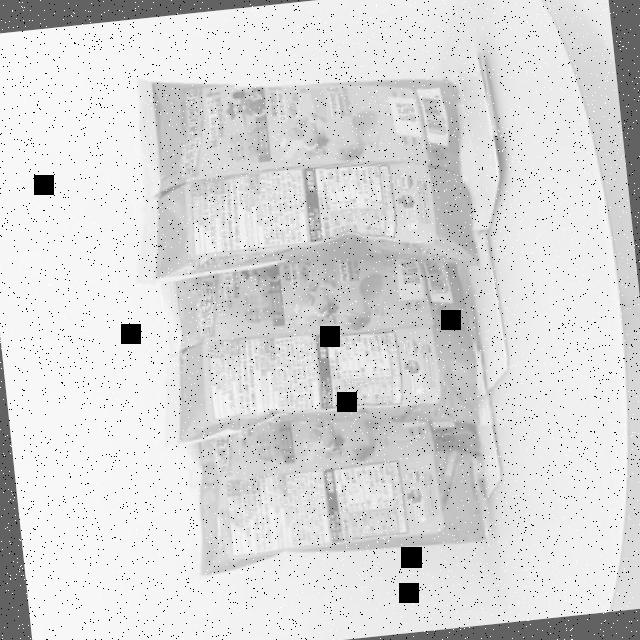snack_bag: (105, 31, 542, 602)
